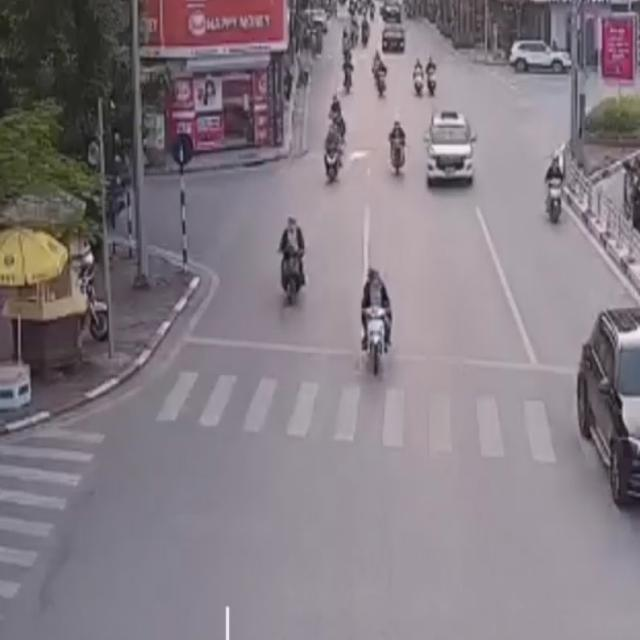car: (573, 300, 640, 514), (420, 107, 479, 192)
motorbike: (353, 265, 395, 385), (275, 211, 309, 309), (540, 152, 568, 224), (321, 120, 345, 188), (385, 115, 408, 181), (328, 92, 346, 145)
